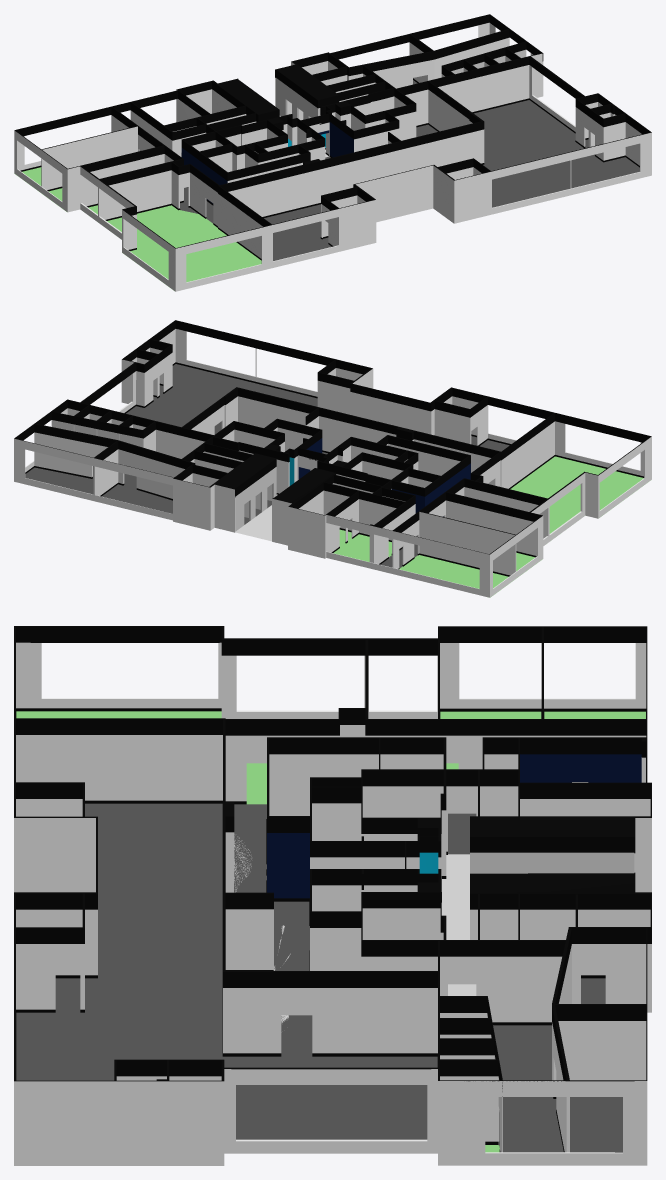
File: 4to piso .fbx
3 views of the same model, one above another, from view 1: azimuth 30°, elevation 25°; view 2: azimuth 150°, elevation 25°; view 3: azimuth 270°, elevation 25° (orthographic). The views are drawn at different scales.
Parts seen in each view (by area): view 1: PISO; view 2: PISO; view 3: PISO.
Part boxes in pixels (<box>): PISO: <box>14,14,651,291</box>; PISO: <box>14,320,651,597</box>; PISO: <box>14,626,651,1165</box>.
Bounding box in the file's own units: 4765 × 412 × 2821.
